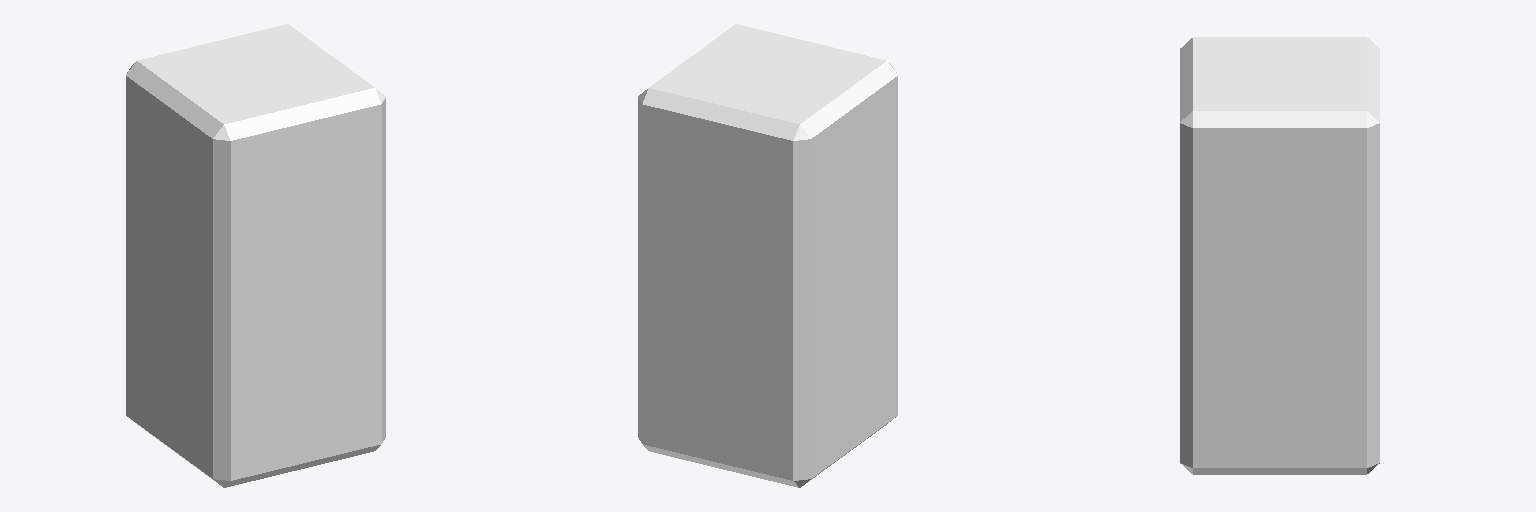
Rendered from ssvean_left_arm.obj.
The picture shows the model from 3 angles: view 1: azimuth 30°, elevation 25°; view 2: azimuth 150°, elevation 25°; view 3: azimuth 270°, elevation 25°; orthographic projection.
Parts seen in each view (by area): view 1: Ssvean1; view 2: Ssvean1; view 3: Ssvean1.
Part boxes in pixels (x1,y1,x2,y2): Ssvean1: (126,24,385,487); Ssvean1: (638,24,897,487); Ssvean1: (1180,37,1379,474).
Bounding box in the file's own units: 1 × 2 × 1.